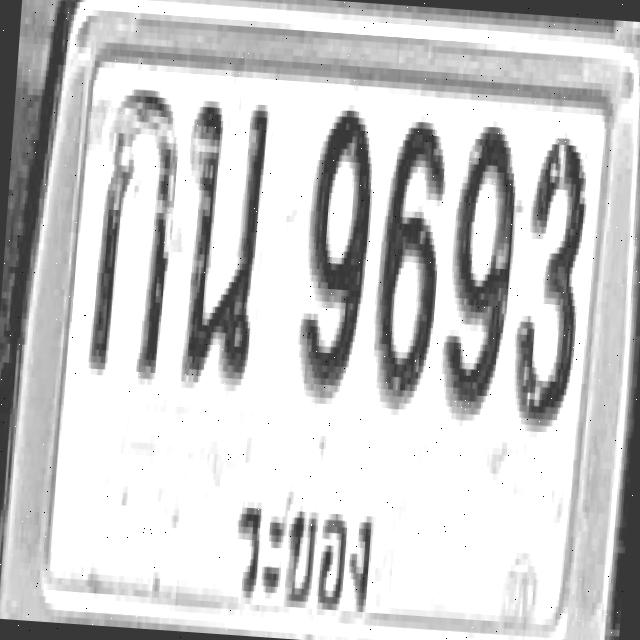10GorGai: (74, 62, 190, 416)
3: (495, 114, 603, 445)
34NorNu: (167, 88, 280, 429)
6: (360, 101, 460, 454)
9: (282, 87, 383, 449), (431, 113, 527, 459)
Rayong: (202, 441, 395, 640)
